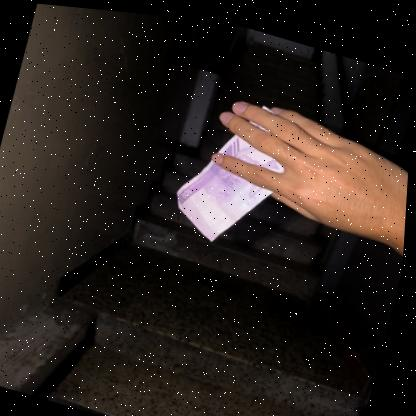one_hundred-back-vef: (167, 80, 301, 253)
